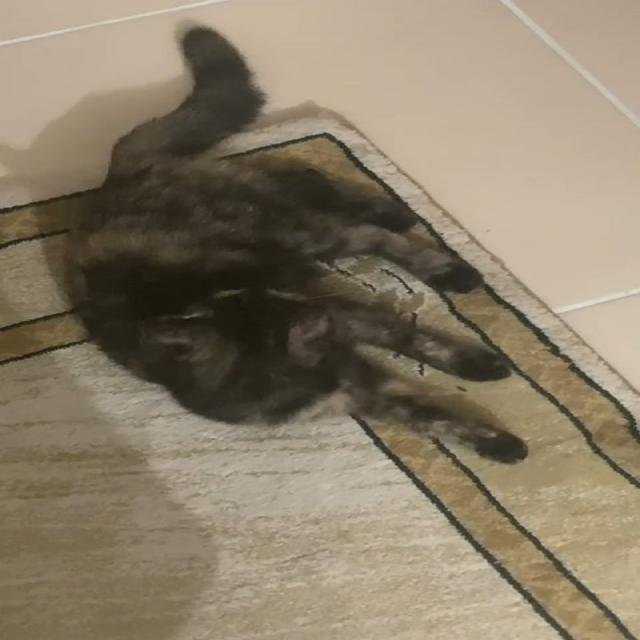authorized: (63, 18, 529, 466)
